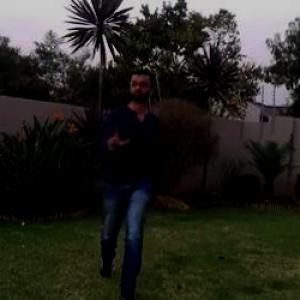land_hand: (102, 118, 134, 158)
